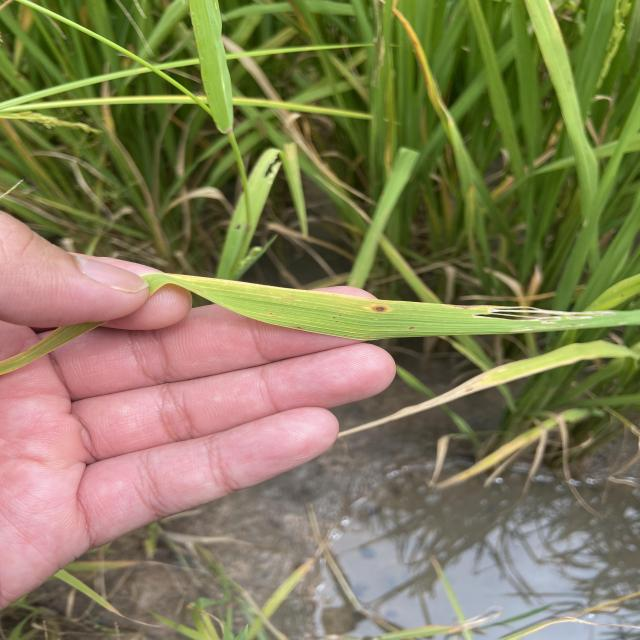Dao on: (370, 304, 389, 313)
